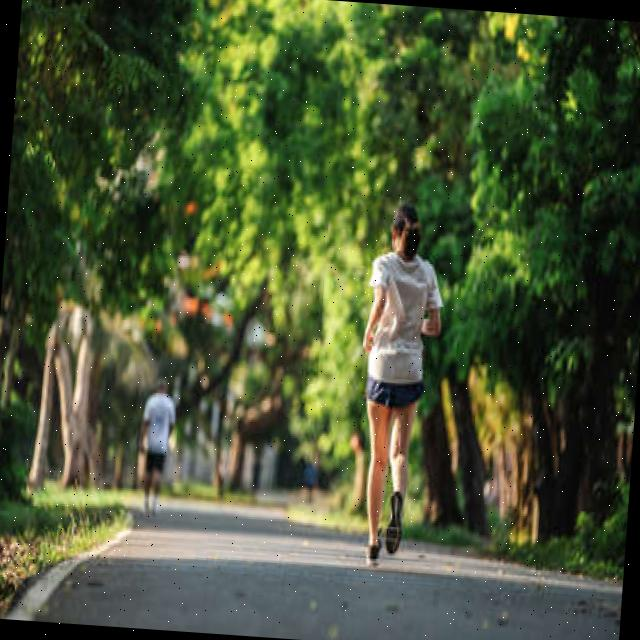Person: (348, 198, 450, 570), (134, 377, 178, 518)
